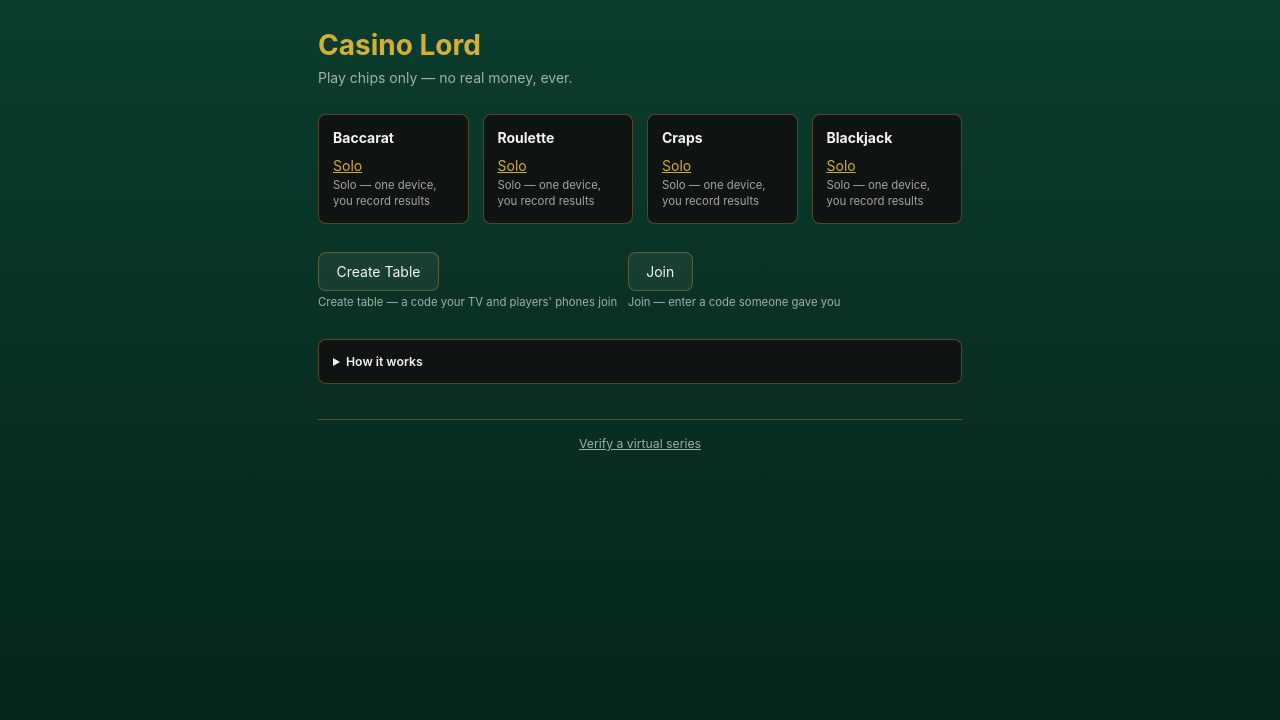
Test: LandingPage create sheet › shows create sheet helper text
Click the button "Create Table".
click(378, 271)  # box [318,252,439,291]
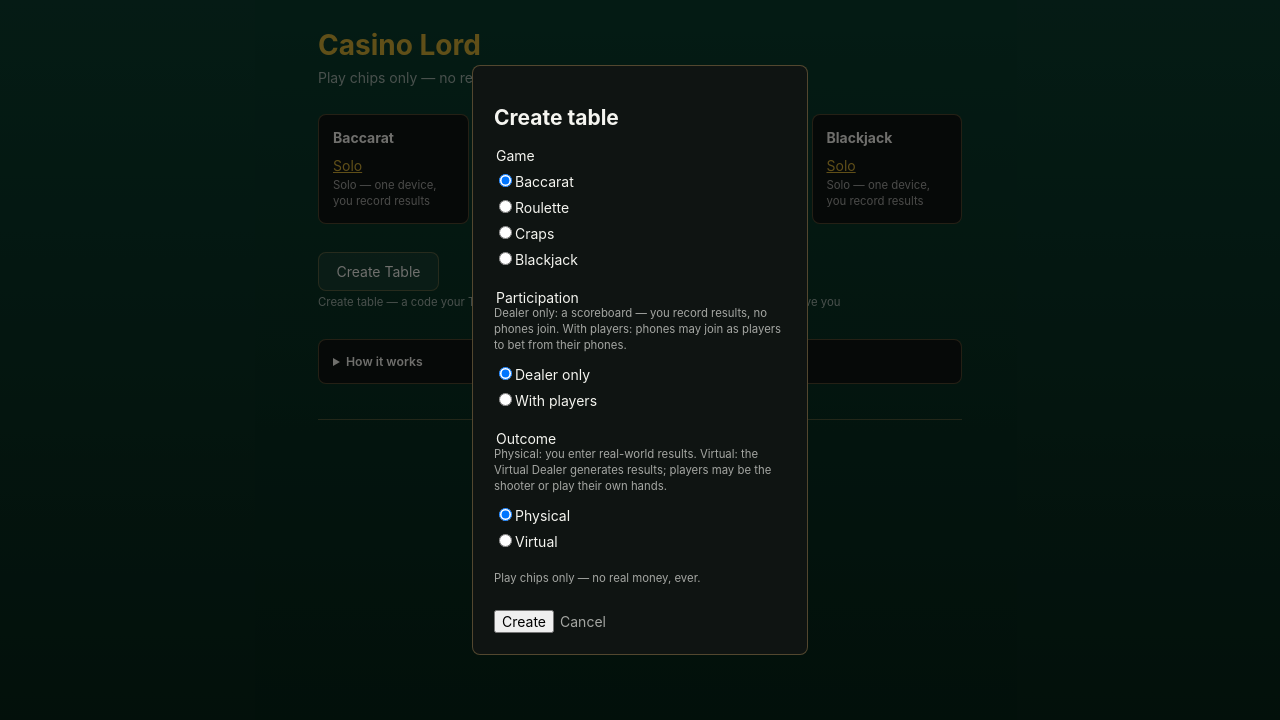
Expected: the text with test id "participation-help" is shown, [494,306,786,354]
Expected: the text with test id "outcome-help" is shown, [494,447,786,495]
Expected: the element with test id "landing-sheet" shows "Play chips only — no real money, ever.", [494,572,700,586]
